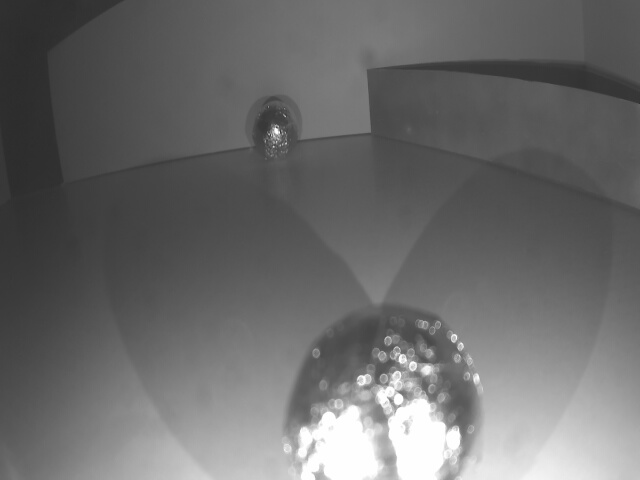Green: (366, 70, 640, 211)
Live: (279, 310, 483, 480), (250, 104, 300, 162)
